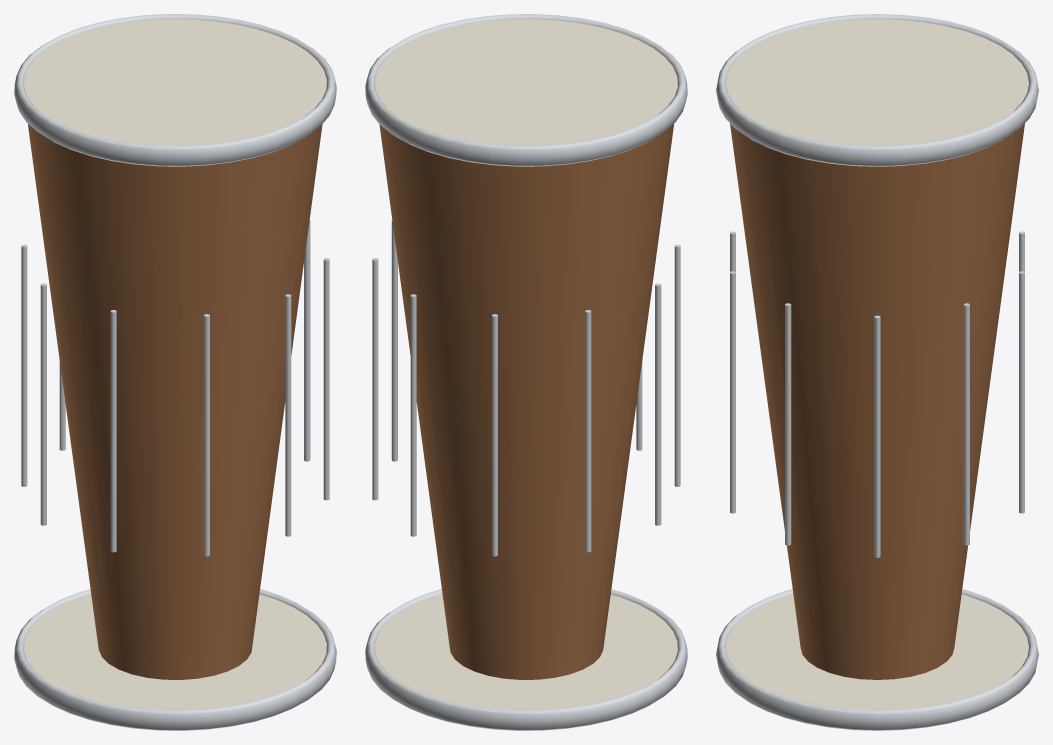
Rendered from wp-djembe.glb.
3 renders of one model, left to right at view 1: azimuth 30°, elevation 25°; view 2: azimuth 150°, elevation 25°; view 3: azimuth 270°, elevation 25°, orthographic.
Parts seen in each view (by area): view 1: wp-djembe; view 2: wp-djembe; view 3: wp-djembe.
Boxes of the visible parts, x1,y1,x2,y2 form: wp-djembe: (14, 14, 336, 730); wp-djembe: (365, 14, 687, 730); wp-djembe: (716, 14, 1038, 730).
Bounding box in the file's own units: 0.3 × 0.6 × 0.3.
